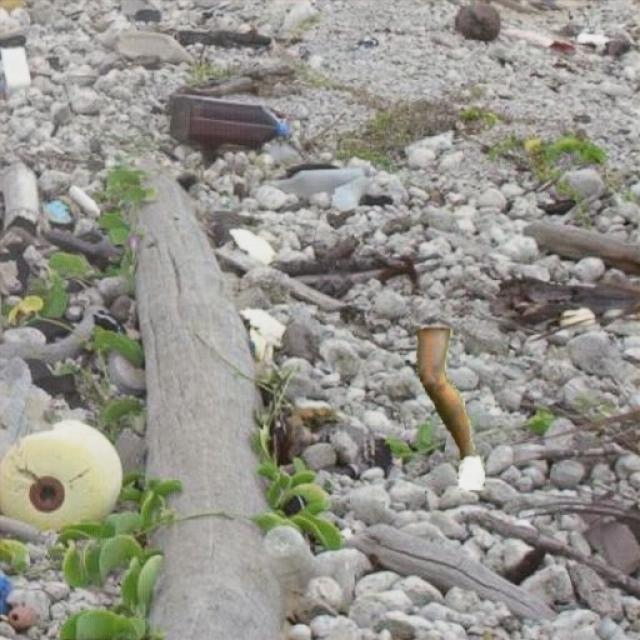Person in Rubble: (416, 328, 485, 488)
